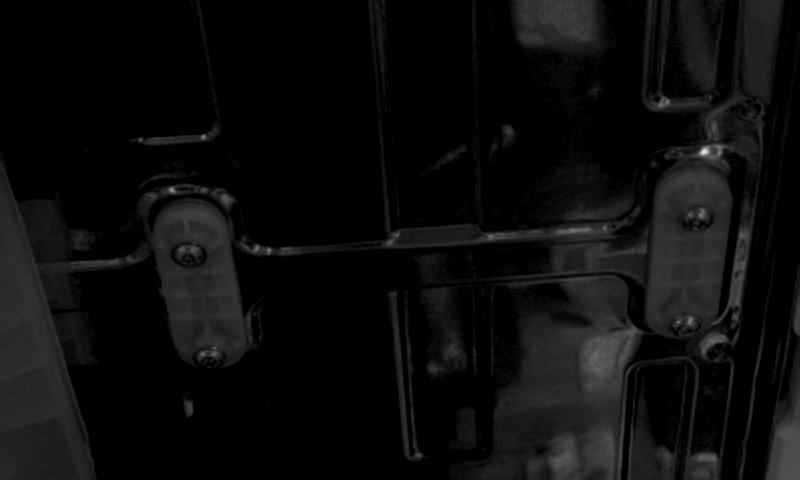vida-ok: (676, 193, 722, 237), (165, 229, 211, 273), (661, 307, 707, 347), (188, 337, 233, 376)
